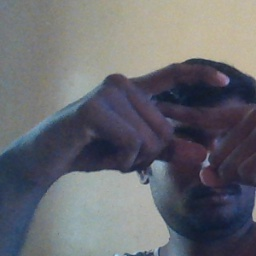E: (129, 56, 233, 183)
